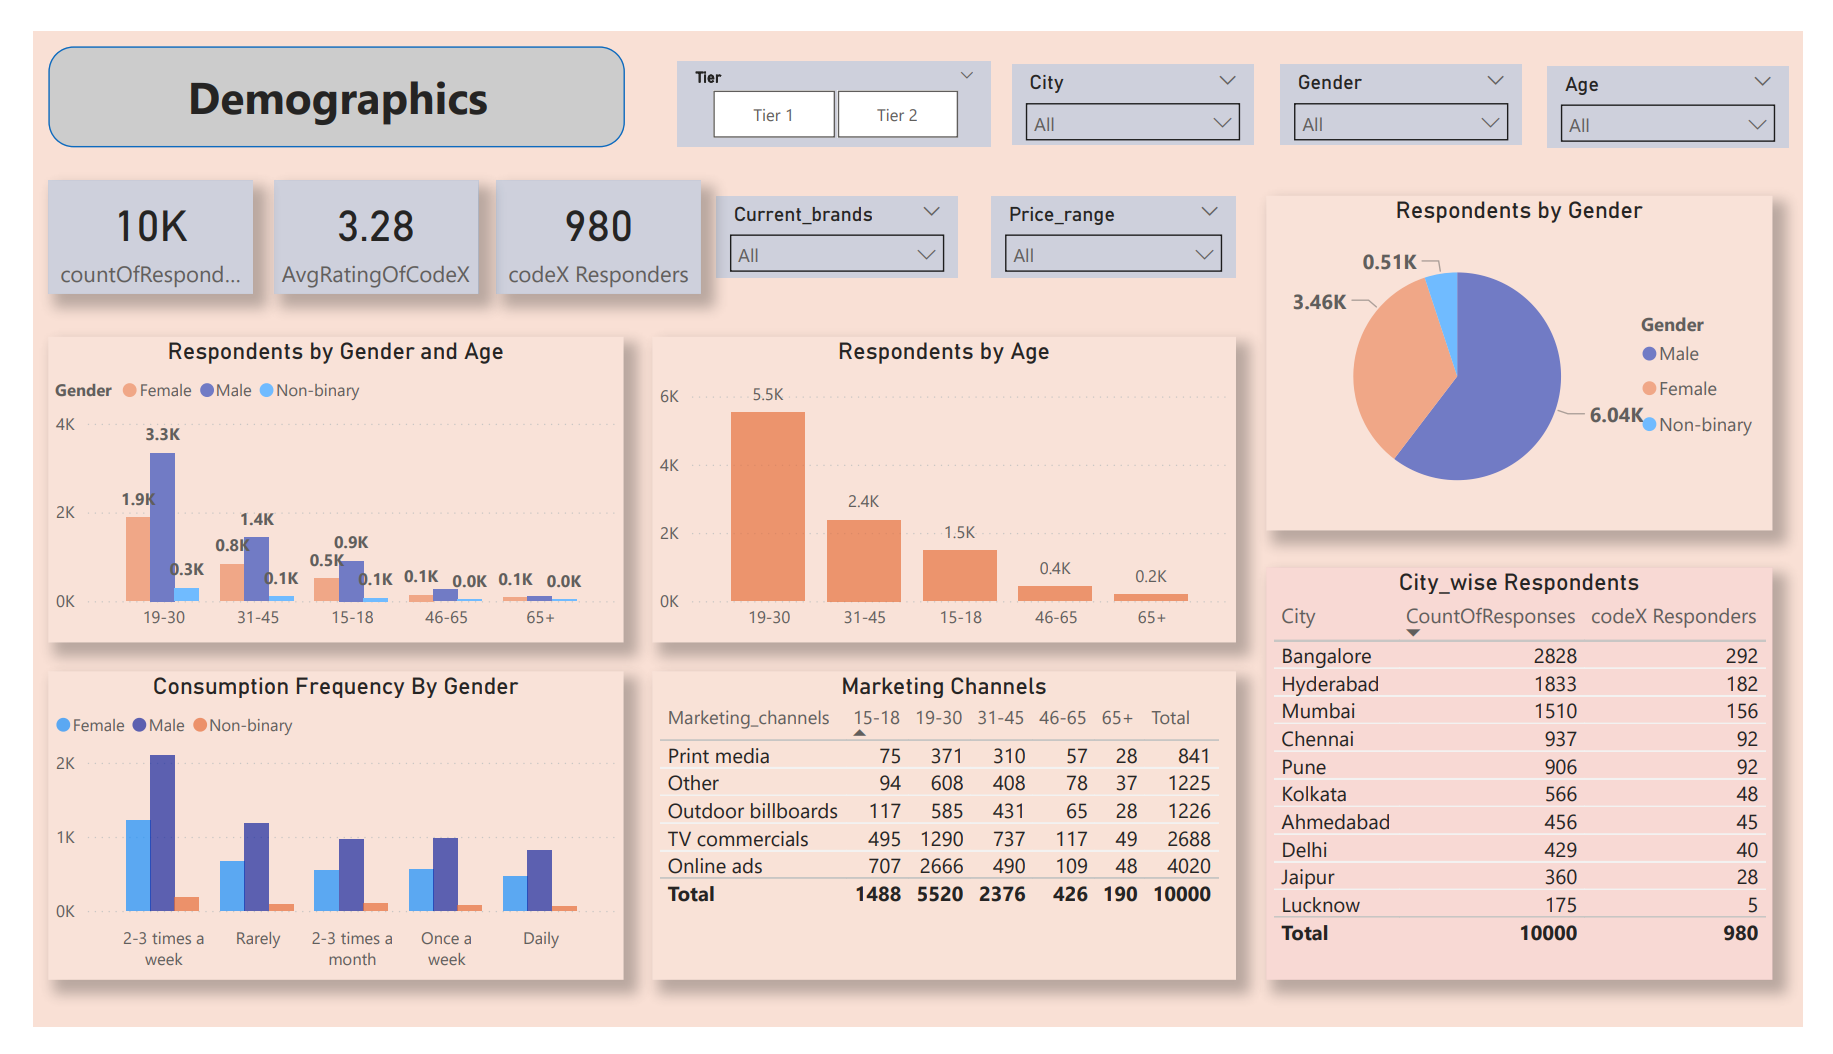

This screenshot's page, from the dashboard's own definition file:
{"tool":"powerbi","page":{"name":"Demographics","canvas":[1280,720],"ordinal":0},"visuals":[{"type":"card","fields":{"Values":["Key_measures.AvgRatingOfCodeX"]},"box":[174.1,107.8,147.9,82.2],"z":0,"group":"g2"},{"type":"slicer","fields":{"Values":["fact_survey_responses.Current_brands"]},"box":[494.4,118.9,174.7,59.5],"z":0},{"type":"group","id":"g1","title":"Group 1","box":[11.2,11.2,416.3,72.5],"z":1000},{"type":"pieChart","title":" Respondents by Gender","fields":{"Y":["CountNonNull(dim_repondents.Respondent_ID)"],"Category":["dim_repondents.Gender"]},"box":[892.1,118.9,366.1,241.6],"z":2000},{"type":"slicer","fields":{"Values":["dim_repondents.Age"]},"box":[1095.1,25.4,174.8,58.3],"z":3000},{"type":"card","fields":{"Values":["Key_measures.countOfResponders"]},"box":[11.2,107.8,147.9,82.2],"z":3000,"group":"g2"},{"type":"slicer","fields":{"Values":["dim_cities.City"]},"box":[708.2,23.9,174.8,58.3],"z":4000},{"type":"card","fields":{"Values":["Key_measures.codeX Responders"]},"box":[335.4,107.8,147.9,82.2],"z":4000,"group":"g2"},{"type":"slicer","fields":{"Values":["dim_repondents.Gender"]},"box":[902.4,23.9,174.8,58.3],"z":5000},{"type":"slicer","fields":{"Values":["dim_cities.Tier"]},"box":[466.1,22.4,227.1,61.3],"z":6000},{"type":"group","id":"g2","title":"Group 2","box":[11.2,107.8,472.1,81.8],"z":7000},{"type":"clusteredColumnChart","title":" Respondents by Gender and Age","fields":{"Y":["CountNonNull(dim_repondents.Respondent_ID)"],"Series":["dim_repondents.Gender"],"Category":["dim_repondents.Age"]},"box":[11.2,221.2,416.3,221.2],"z":8000},{"type":"shape","box":[11.2,11.2,416.8,73.2],"z":9000,"group":"g1"},{"type":"slicer","fields":{"Values":["fact_survey_responses.Price_range"]},"box":[693.2,118.9,176.6,59.5],"z":9000},{"type":"textbox","box":[76.9,20.2,286.9,55.3],"z":10000,"group":"g1"},{"type":"tableEx","title":"City_wise Respondents","fields":{"Values":["dim_cities.City","Key_measures.countOfResponders","Key_measures.codeX Responders"]},"box":[892.1,388.4,366.1,297.4],"z":10000},{"type":"clusteredColumnChart","title":"Consumption Frequency  By Gender ","fields":{"Category":["fact_survey_responses.Consume_frequency"],"Series":["dim_repondents.Gender"],"Y":["CountNonNull(dim_repondents.Gender)"]},"box":[11.2,462.8,416.3,223],"z":11000},{"type":"clusteredColumnChart","title":"Respondents by Age","fields":{"Category":["dim_repondents.Age"],"Y":["Key_measures.countOfResponders"]},"box":[447.9,221.2,421.9,221.2],"z":12000},{"type":"tableEx","title":"Marketing Channels","fields":{"Values":["fact_survey_responses.Marketing_channels","Key_measures.15-18","Key_measures.19-30","Key_measures.31-45","Key_measures.46-65","Key_measures.65+","Key_measures.countOfResponders"]},"box":[447.9,462.8,421.9,223],"z":13000}]}

Visuals, with their boxes in screenshot pixels (x1, y1, x2, y2), scaled from the page's 1280x720 canvas onto the 1833x1054 screenshot:
card - Key_measures.AvgRatingOfCodeX: [249,158,461,278]
slicer - fact_survey_responses.Current_brands: [708,174,958,261]
"Group 1" group: [16,16,612,123]
" Respondents by Gender" pieChart: [1278,174,1802,528]
slicer - dim_repondents.Age: [1568,37,1819,123]
card - Key_measures.countOfResponders: [16,158,228,278]
slicer - dim_cities.City: [1014,35,1264,120]
card - Key_measures.codeX Responders: [480,158,692,278]
slicer - dim_repondents.Gender: [1292,35,1543,120]
slicer - dim_cities.Tier: [667,33,993,123]
"Group 2" group: [16,158,692,278]
" Respondents by Gender and Age" clusteredColumnChart: [16,324,612,648]
shape: [16,16,613,124]
slicer - fact_survey_responses.Price_range: [993,174,1246,261]
textbox: [110,30,521,111]
"City_wise Respondents" tableEx: [1278,569,1802,1004]
"Consumption Frequency  By Gender " clusteredColumnChart: [16,677,612,1004]
"Respondents by Age" clusteredColumnChart: [641,324,1246,648]
"Marketing Channels" tableEx: [641,677,1246,1004]
